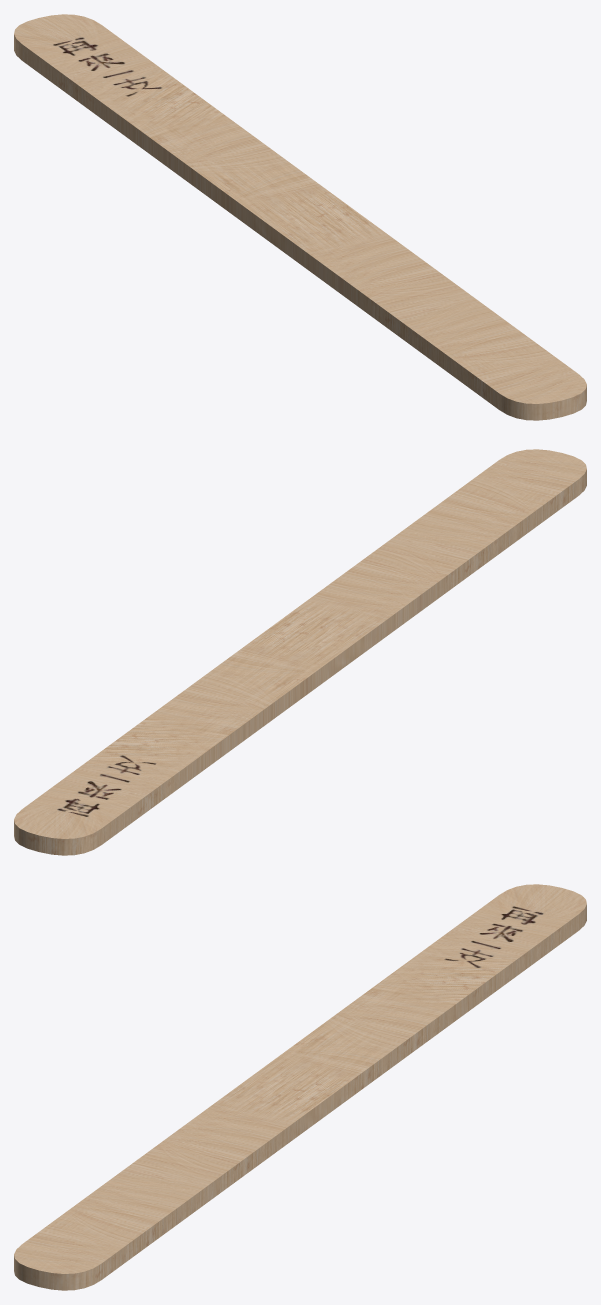
Rendered from popsiclestick.fbx.
3 renders of one model, top to bottom at view 1: azimuth 30°, elevation 25°; view 2: azimuth 150°, elevation 25°; view 3: azimuth 330°, elevation 25°, orthographic.
Visible parts, largest first — view 1: Box001; view 2: Box001; view 3: Box001.
Part boxes in pixels (x1,y1,x2,y2): Box001: (14, 14, 586, 420); Box001: (14, 449, 586, 855); Box001: (14, 884, 586, 1290).
Bounding box in the file's own units: 1 × 0.2 × 11.4.
